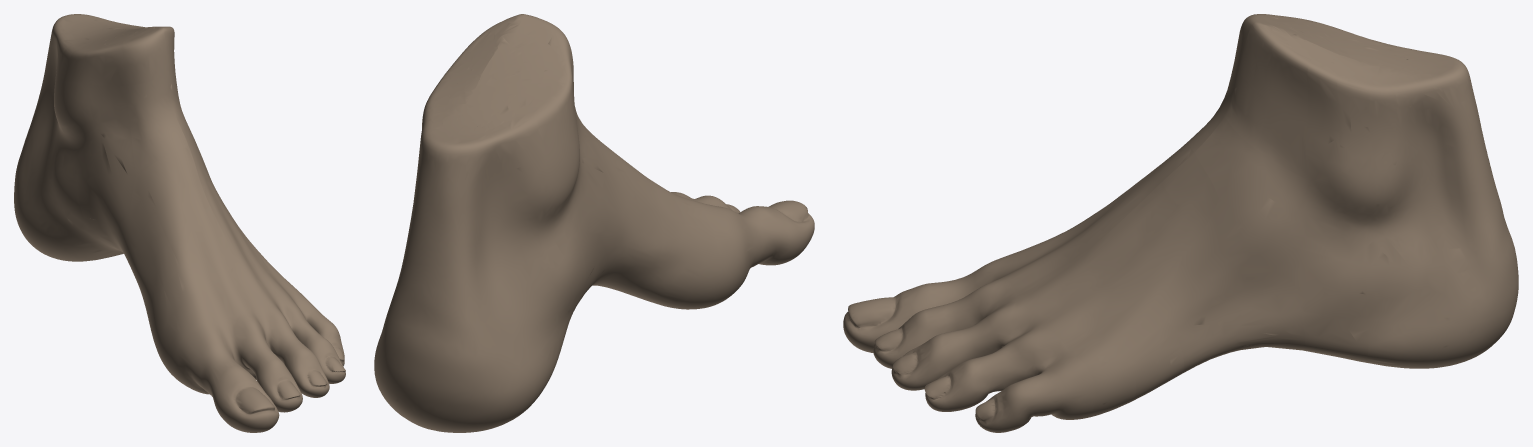
File: foot.low.optimized.glb
3 renders of one model, left to right at view 1: azimuth 30°, elevation 25°; view 2: azimuth 150°, elevation 25°; view 3: azimuth 270°, elevation 25°, orthographic. The views are drawn at different scales.
Parts seen in each view (by area): view 1: Foot_Low.001; view 2: Foot_Low.001; view 3: Foot_Low.001.
Part boxes in pixels (box(x1,y1,x2,y2)): Foot_Low.001: box(14, 14, 345, 432); Foot_Low.001: box(374, 14, 814, 432); Foot_Low.001: box(843, 14, 1518, 432).
Bounding box in the file's own units: 2.55 × 4.17 × 7.
